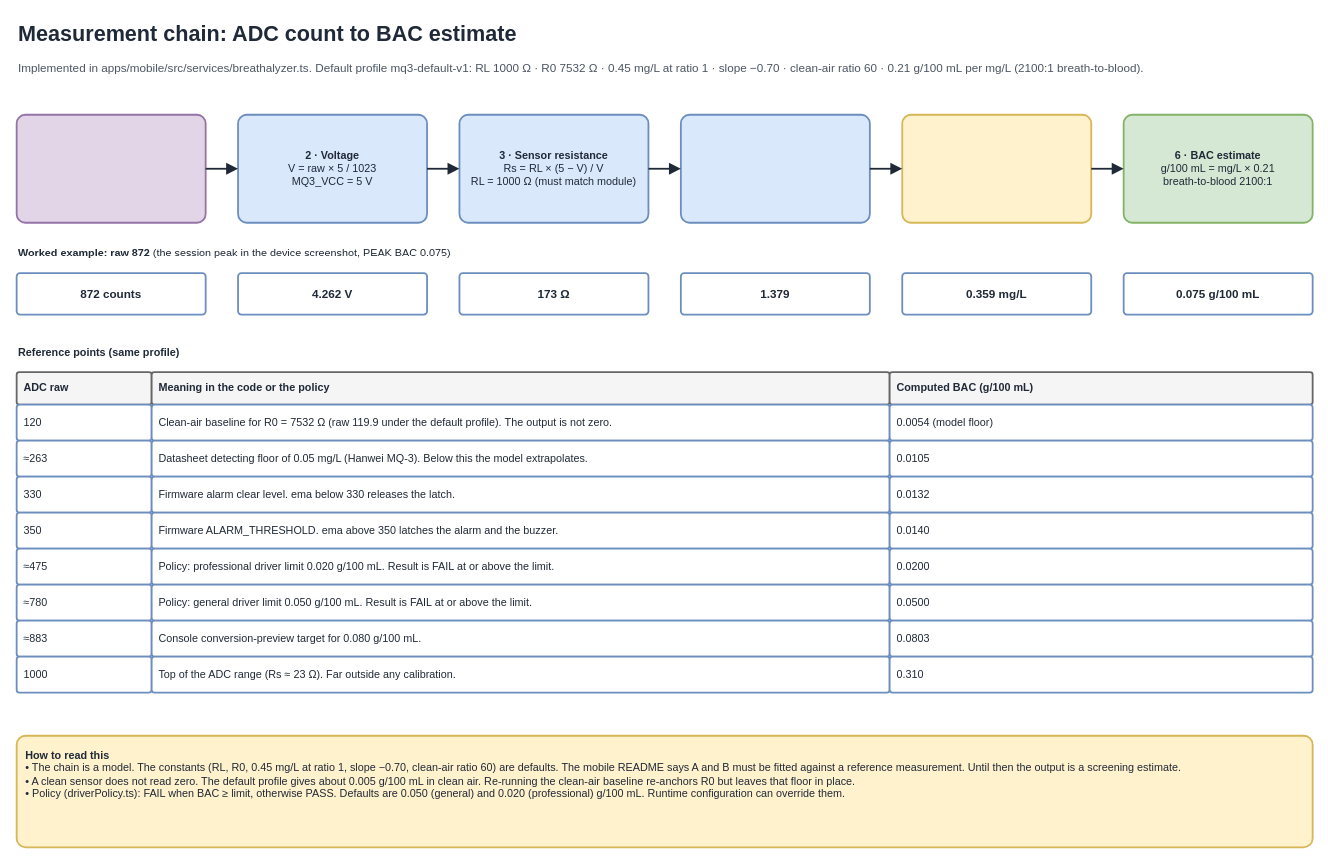
Some shapes in this 1328 by 863 pixel diagram are drawn without their labels. Each missing label, with the centre of its shape:
"1 · ADC count raw = mean of 25 samples range 0–1023 (10-bit)" belongs at [110,168].
"4 · Ratio to clean air ratio = Rs / R0 × 60 R0 = 7532 Ω (baseline)" belongs at [775,168].
"5 · Concentration mg/L = 0.45 × ratio −0.7 power-law model" belongs at [996,168].
